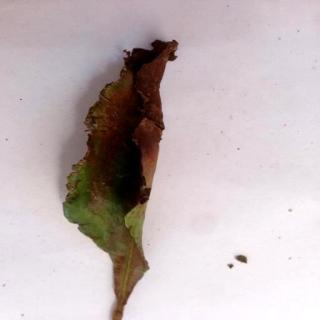Algal Leaf: (65, 38, 179, 320)
